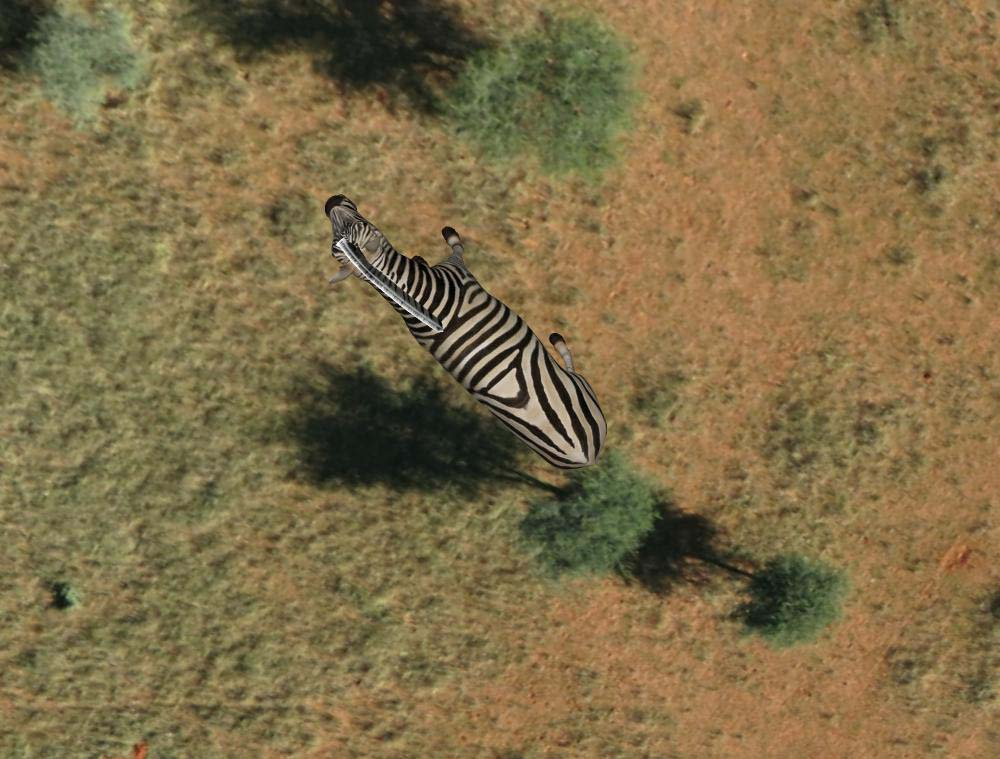zebra: (323, 194, 612, 469)
